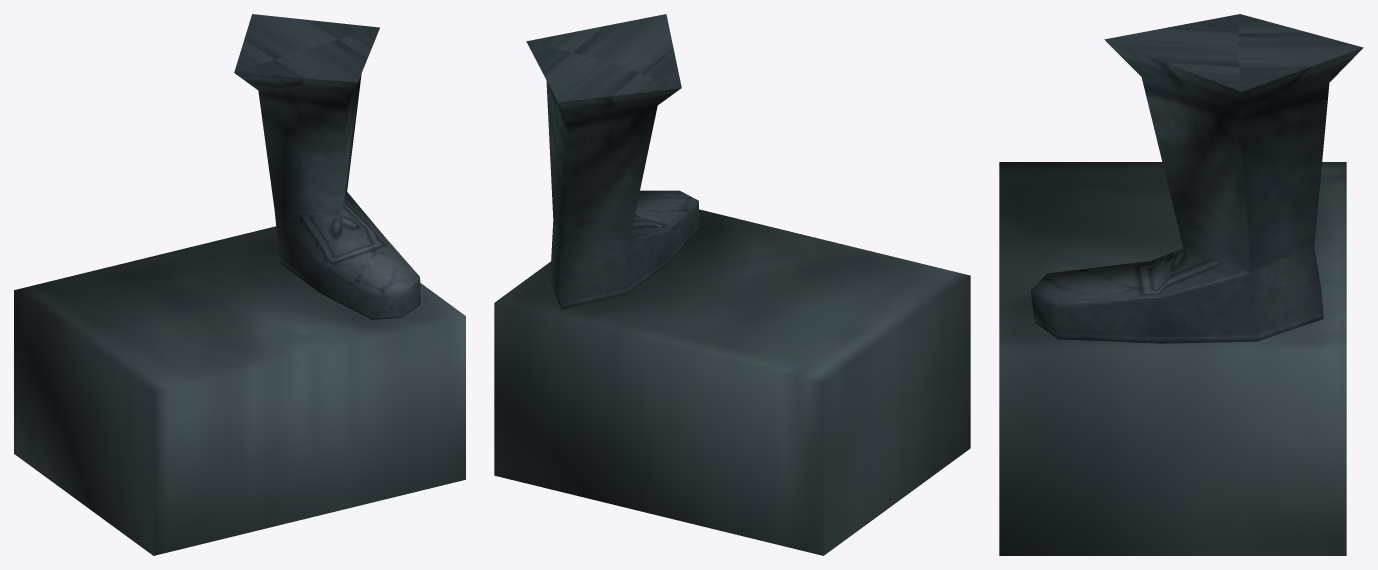
The model's file is Stage_DiXiaCheng_BinMaYong_08.FBX.
The picture shows the model from 3 angles, left to right: view 1: azimuth 30°, elevation 25°; view 2: azimuth 150°, elevation 25°; view 3: azimuth 270°, elevation 25°; orthographic projection. The views are drawn at different scales.
Parts seen in each view (by area): view 1: Stage_DiXiaCheng_BinMaYong_08; view 2: Stage_DiXiaCheng_BinMaYong_08; view 3: Stage_DiXiaCheng_BinMaYong_08.
Boxes of the visible parts, box(x1,y1,x2,y2) form: Stage_DiXiaCheng_BinMaYong_08: box(14, 14, 465, 555); Stage_DiXiaCheng_BinMaYong_08: box(494, 14, 970, 555); Stage_DiXiaCheng_BinMaYong_08: box(999, 14, 1363, 555).
Size of the model in its own units: 62.51 by 70.49 by 48.89.
